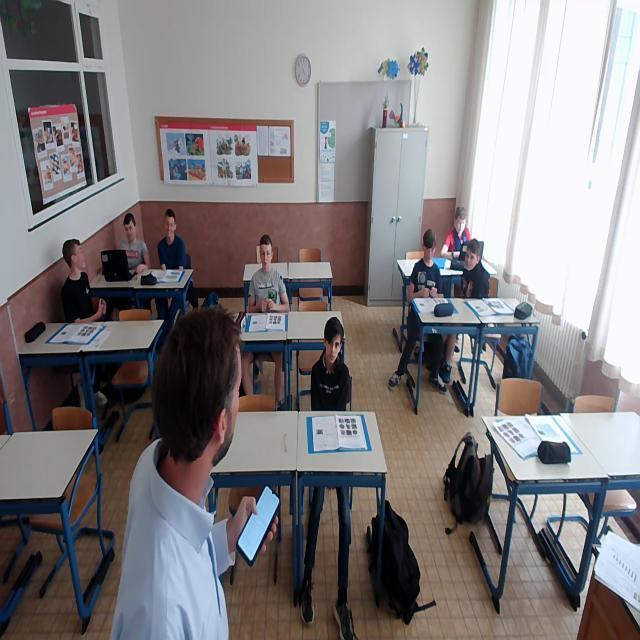Looking away: (123, 224, 135, 242), (454, 218, 466, 232), (424, 247, 434, 261)
Looking forward: (324, 338, 340, 364), (260, 247, 272, 268), (464, 252, 476, 270), (164, 220, 175, 238)
Phone use: (238, 470, 278, 568)
Turning around: (57, 240, 106, 320)
